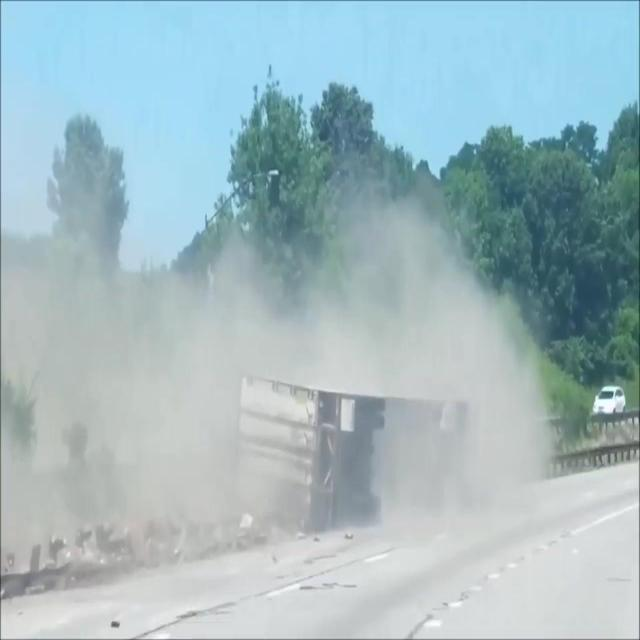severe: (209, 363, 479, 541)
